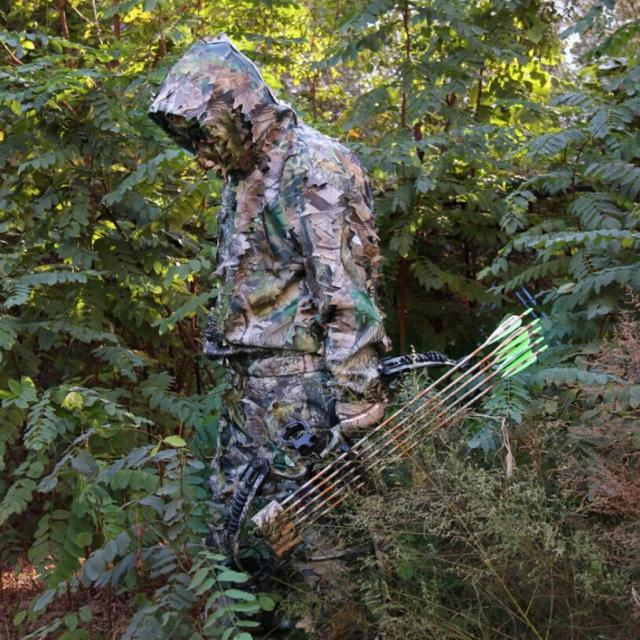Human: (147, 37, 550, 606)
